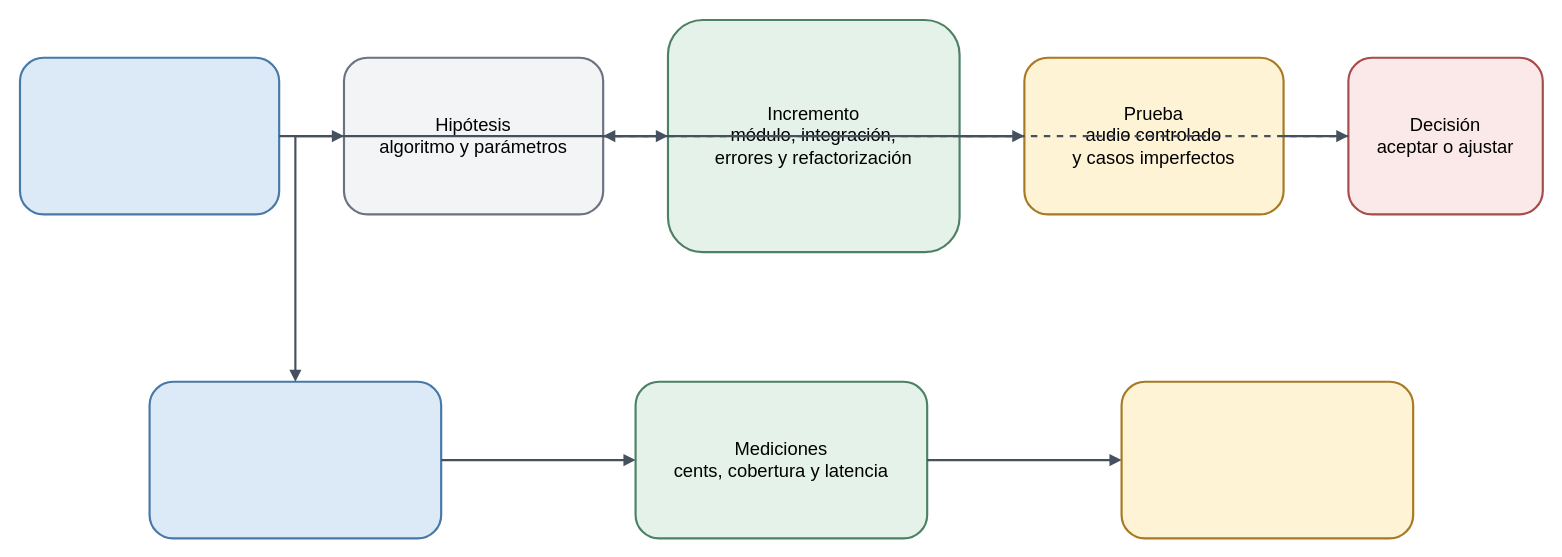
This 1562x557 diagram has some shape labels left out. The shapes that lost their labels are listed below. From the top down, each one's centre as x and y in pixels, then its label:
At [149,135]: "Entrada requisito + HU riesgo técnico".
At [295,459]: "Artefactos WAV, CSV y JSON".
At [1267,459]: "Trazabilidad configuración y requisito".
